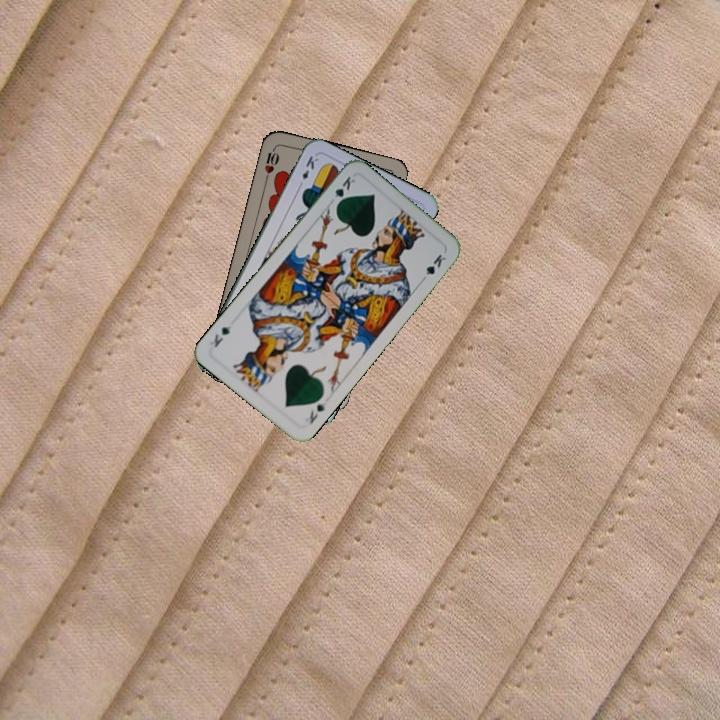EK: (294, 151, 321, 190)
GK: (330, 172, 358, 209), (305, 398, 328, 427)
H10: (260, 142, 282, 182)
